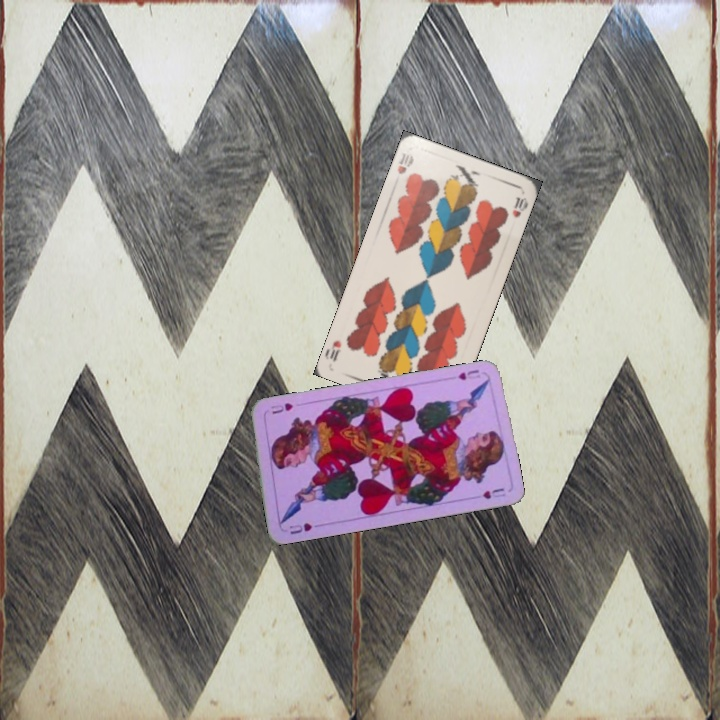H10: (393, 149, 416, 177)
HU: (454, 365, 481, 383), (286, 519, 314, 536)
